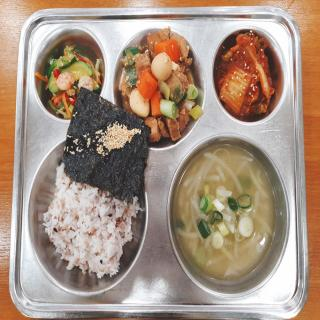Nasi: (46, 189, 142, 280)
